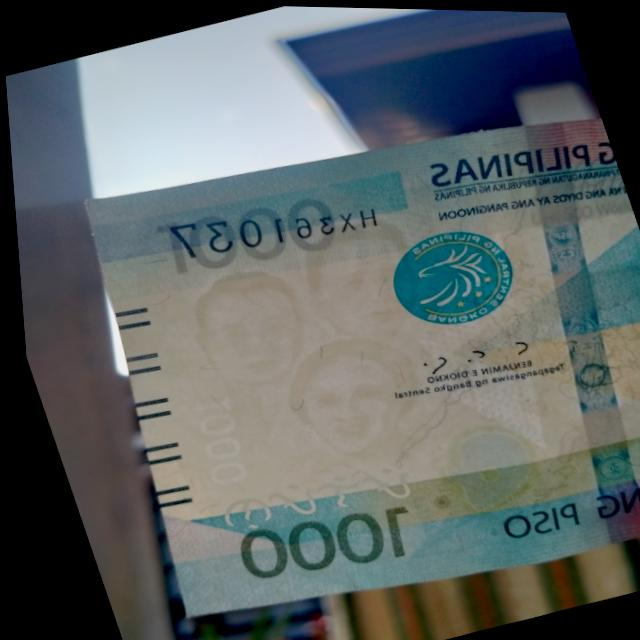security_thread: (467, 111, 640, 541)
see_through_mark: (201, 437, 433, 553)
serial_number: (150, 159, 402, 284)
value_watermark: (169, 378, 263, 490)
watermark: (163, 199, 475, 497)
